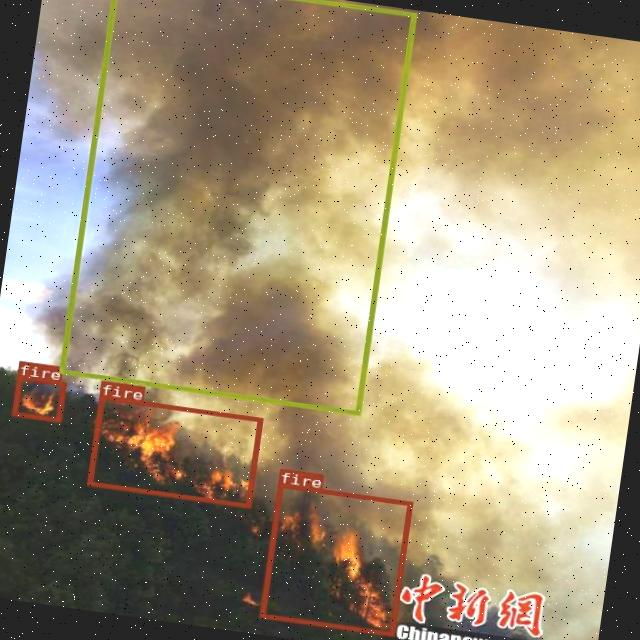fire: (258, 483, 412, 636), (86, 395, 262, 507), (11, 376, 65, 422)
smoke: (58, 0, 416, 415)
